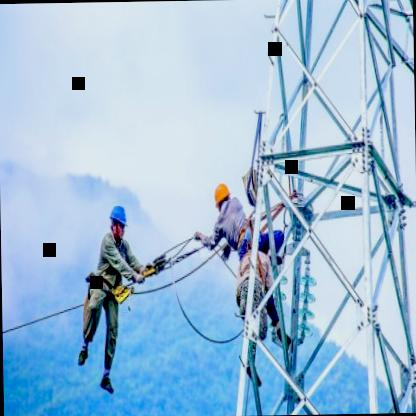helmet: (107, 198, 129, 242), (212, 180, 232, 216), (244, 224, 263, 249)
